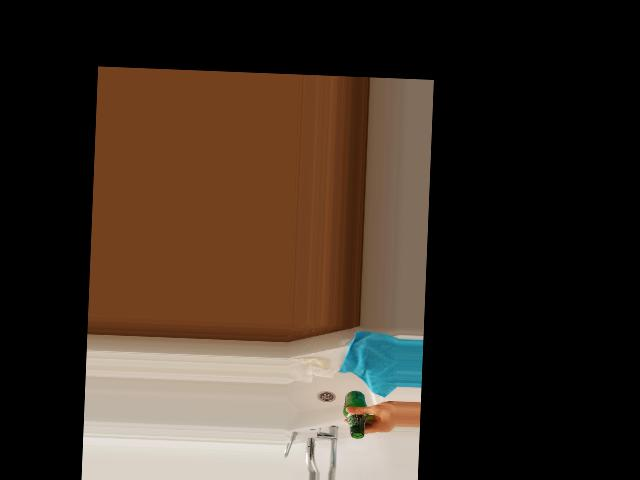beer: (342, 389, 369, 438)
